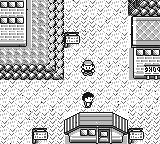leer: (32, 128, 48, 143), (128, 128, 144, 143), (65, 32, 79, 47)
main: (81, 61, 95, 75)
no-caminable: (0, 0, 64, 81), (65, 112, 127, 143), (132, 17, 160, 79), (0, 0, 28, 46), (128, 0, 160, 16)
npc: (82, 92, 94, 107)
puerta: (98, 130, 110, 143)
